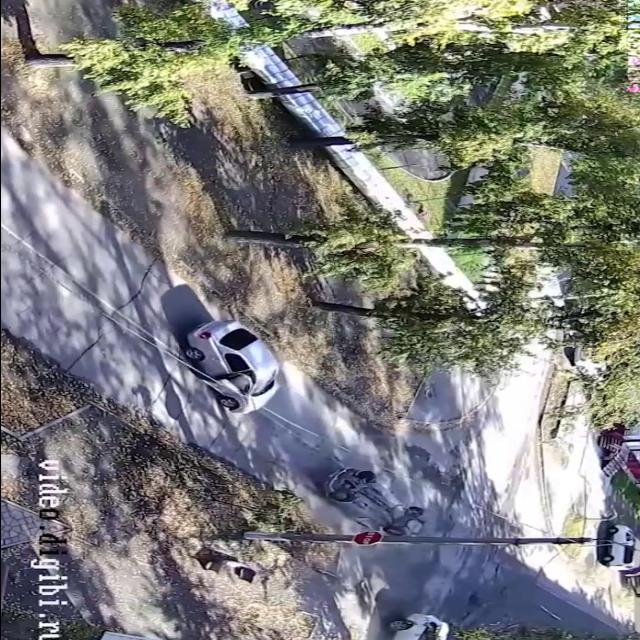accident: (307, 460, 437, 541)
